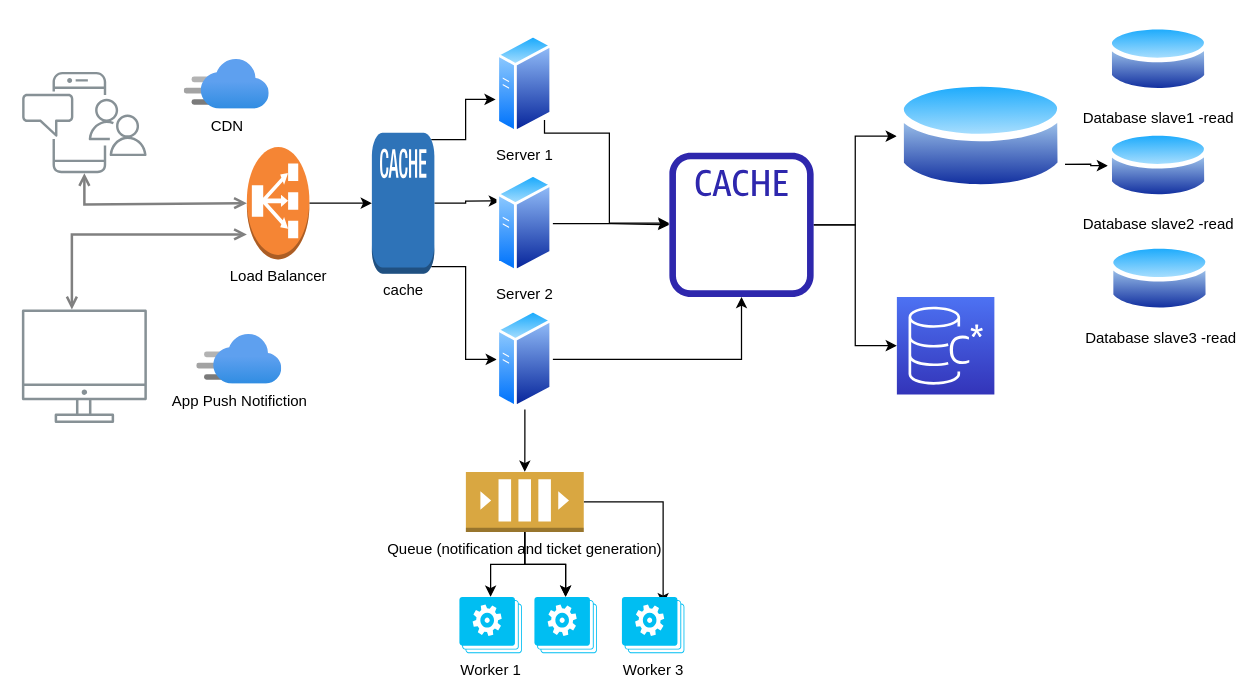
Some shapes in this 1258 by 700 pixel diagram are drawn without their labels. The box of each missing label's shape, as (x1, y1, x2, y2) in pixels:
App: (21, 71, 146, 172)
Database (Master- Write): (896, 73, 1065, 198)
No SQL: (896, 296, 994, 394)
Server 3: (496, 309, 552, 409)
Site: (21, 309, 146, 422)
Worker 2: (534, 596, 596, 652)
